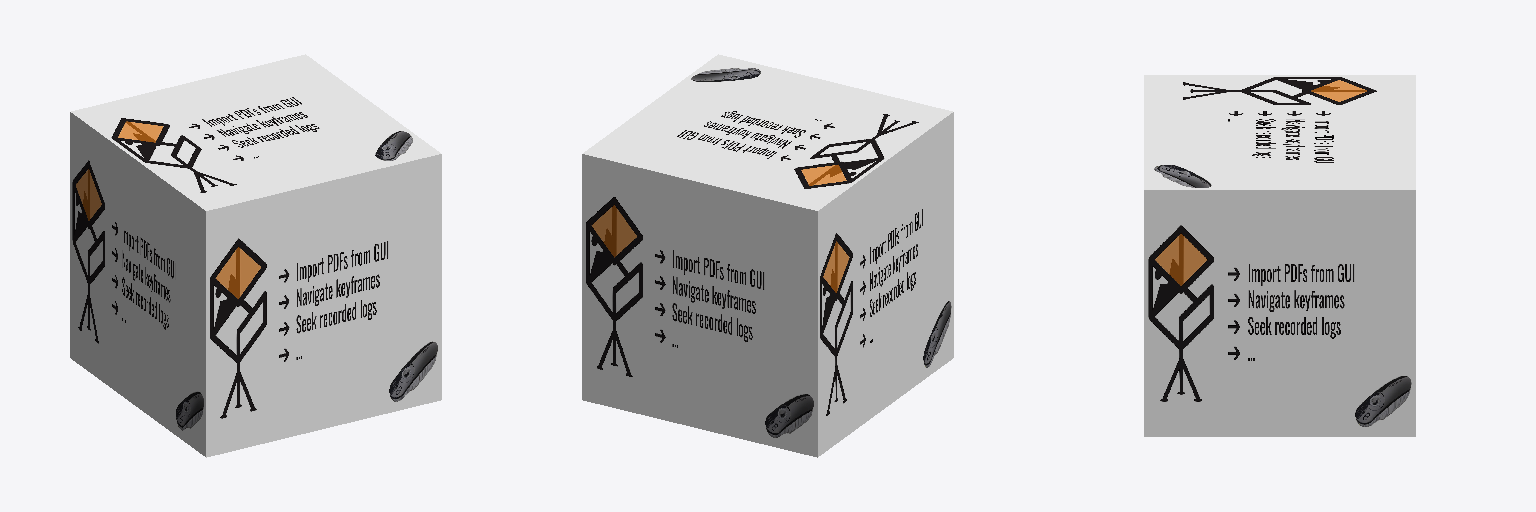
3 views of the same model, side by side, from view 1: azimuth 30°, elevation 25°; view 2: azimuth 150°, elevation 25°; view 3: azimuth 270°, elevation 25° (orthographic).
Parts seen in each view (by area): view 1: demo_slide-4; view 2: demo_slide-4; view 3: demo_slide-4.
Boxes of the visible parts, x1,y1,x2,y2 form: demo_slide-4: [70, 54, 441, 457]; demo_slide-4: [582, 54, 953, 457]; demo_slide-4: [1144, 75, 1415, 436].
Size of the model in its own units: 1 by 1 by 1.
Materials: 1 (1 with a texture image).